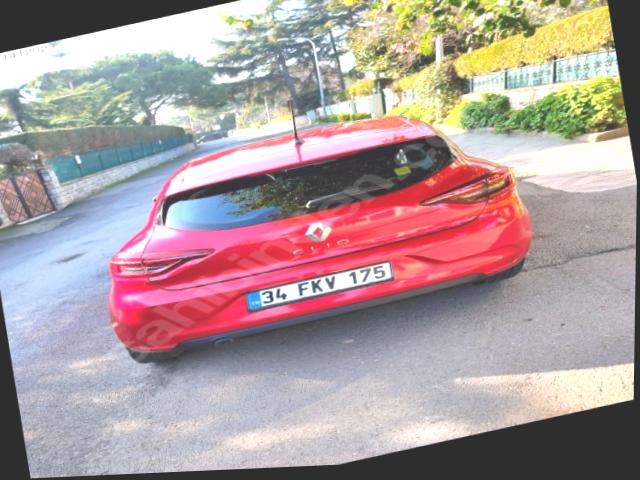plaka: (246, 261, 392, 310)
